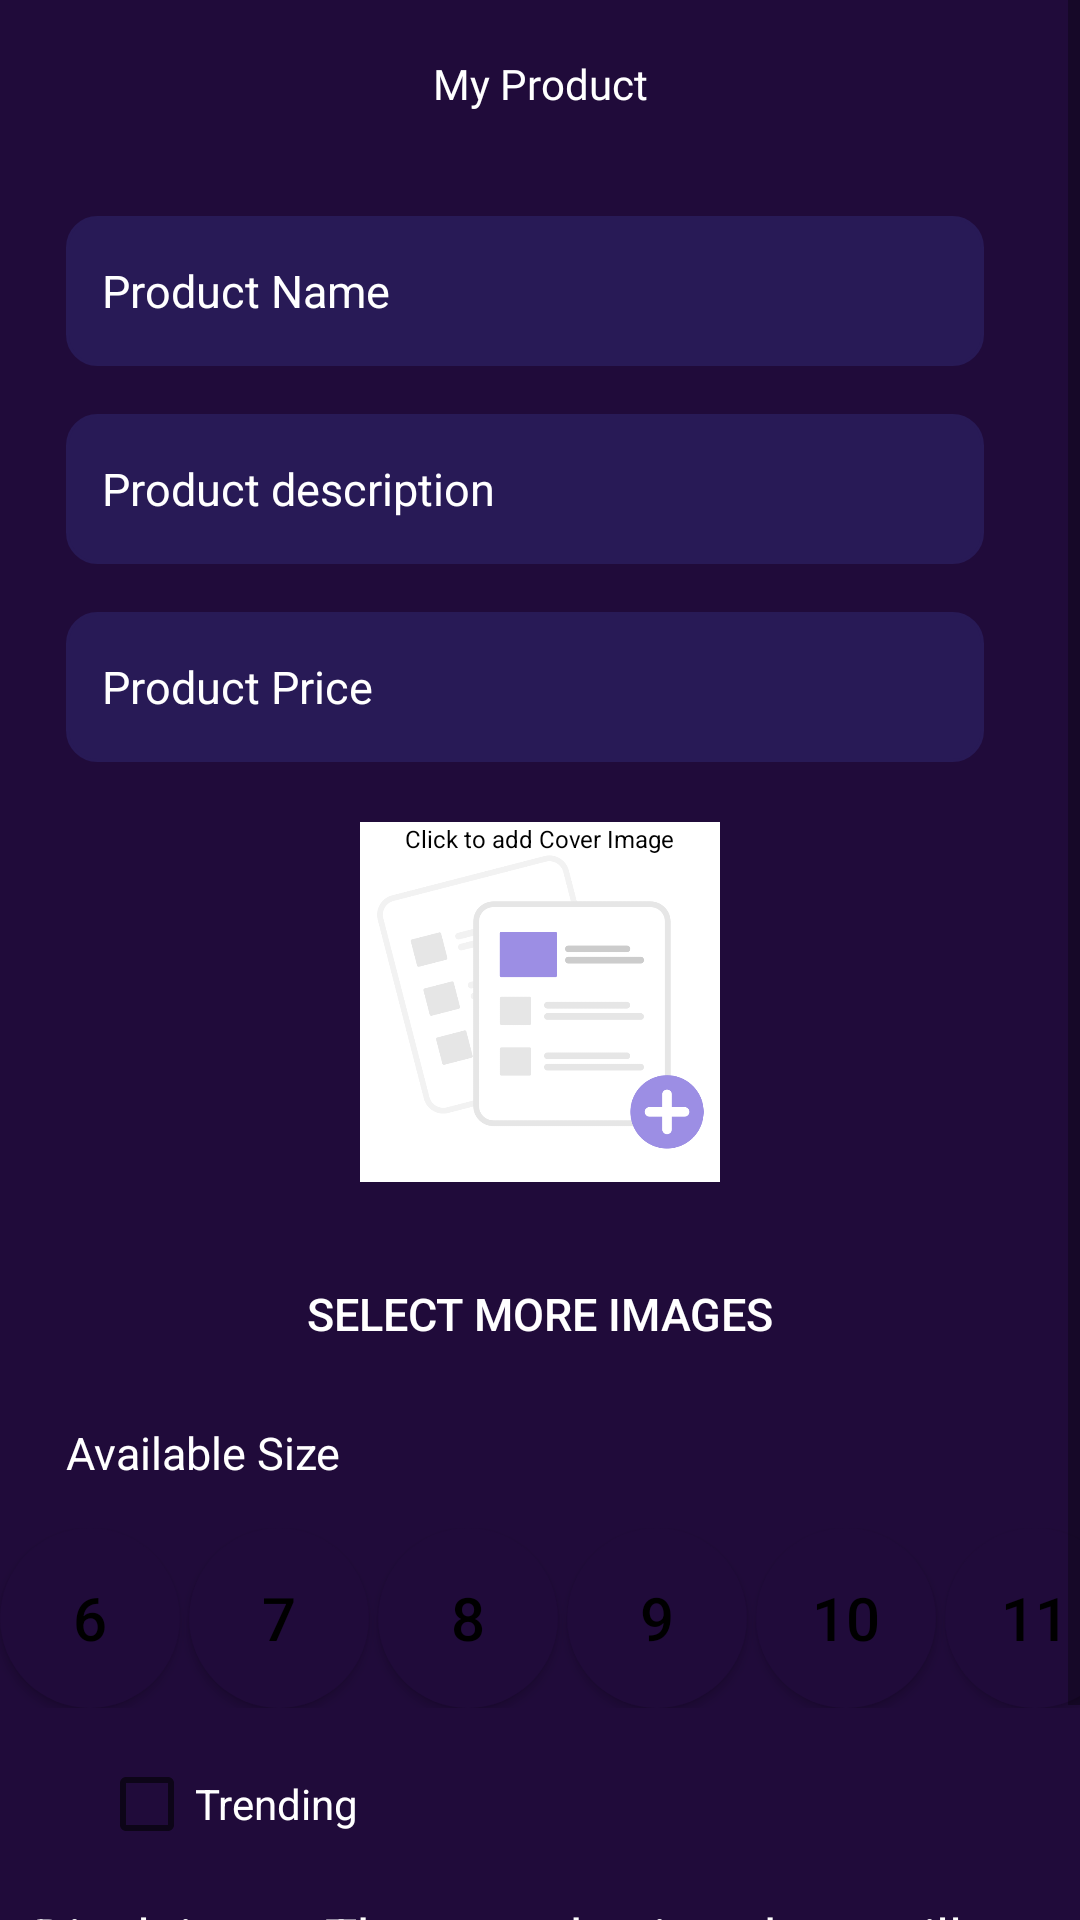

Named icons in this screenshot (1080*1920) and their centers, [x,y]:
previeww: [540,1002]
